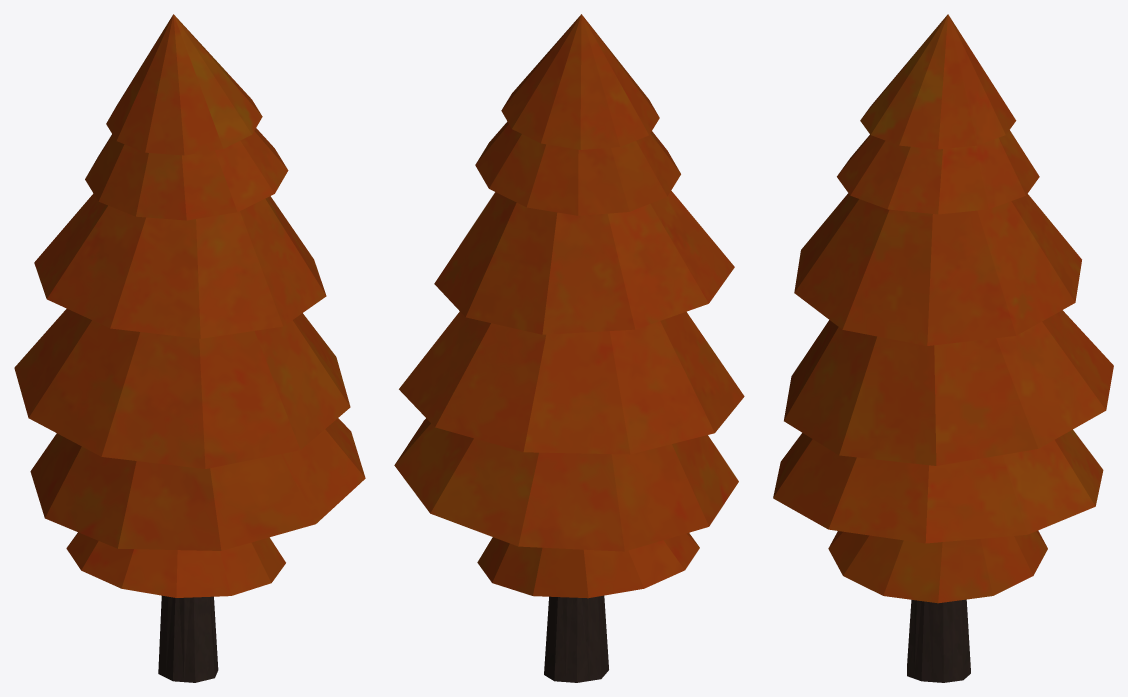
File: tree-green-orange-flowers_2.fbx
The picture shows the model from 3 angles, left to right: view 1: azimuth 30°, elevation 25°; view 2: azimuth 150°, elevation 25°; view 3: azimuth 270°, elevation 25°; orthographic projection.
Visible parts, largest first — view 1: Cylinder.024; view 2: Cylinder.024; view 3: Cylinder.024.
Part boxes in pixels (<box>): Cylinder.024: <box>14,14,365,682</box>; Cylinder.024: <box>394,14,744,682</box>; Cylinder.024: <box>773,14,1113,682</box>.
Bounding box in the file's own units: 115 × 237 × 112.
